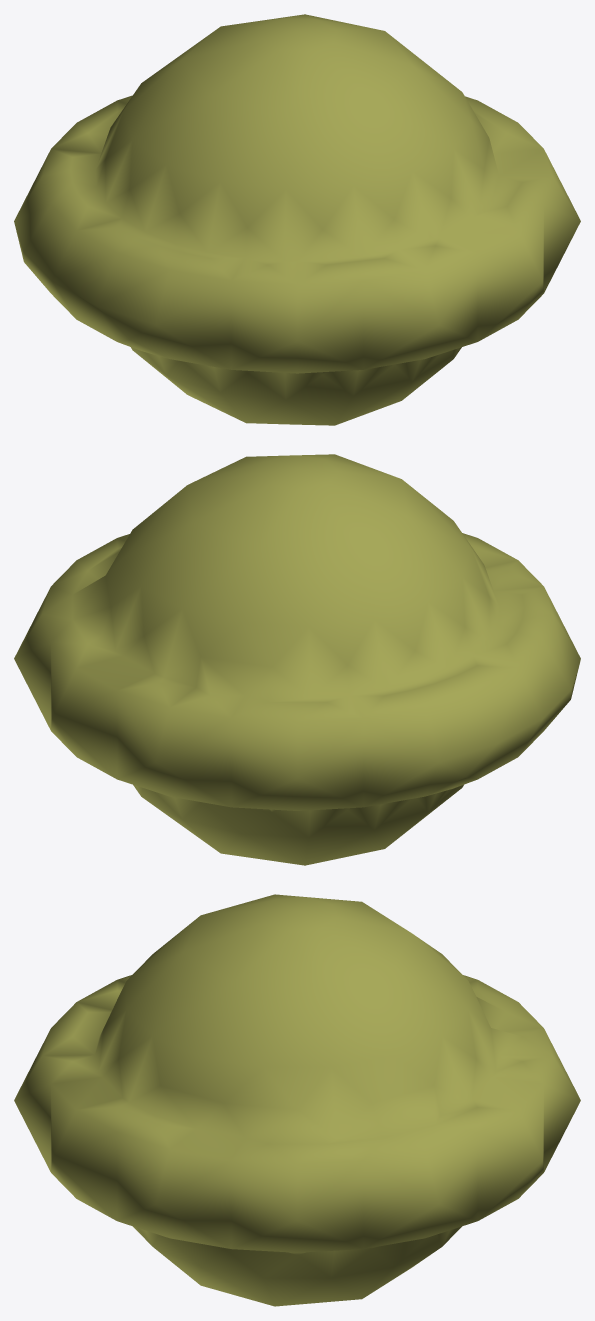
The model's file is plant_03_universsun_samen.gltf.
The picture shows the model from 3 angles, top to bottom: view 1: azimuth 30°, elevation 25°; view 2: azimuth 150°, elevation 25°; view 3: azimuth 270°, elevation 25°; orthographic projection.
Parts seen in each view (by area): view 1: Sphere; view 2: Sphere; view 3: Sphere.
Boxes of the visible parts, x1,y1,x2,y2 form: Sphere: (14, 14, 580, 425); Sphere: (14, 454, 580, 865); Sphere: (14, 894, 580, 1306).
Size of the model in its own units: 2.71 by 2 by 2.71.
